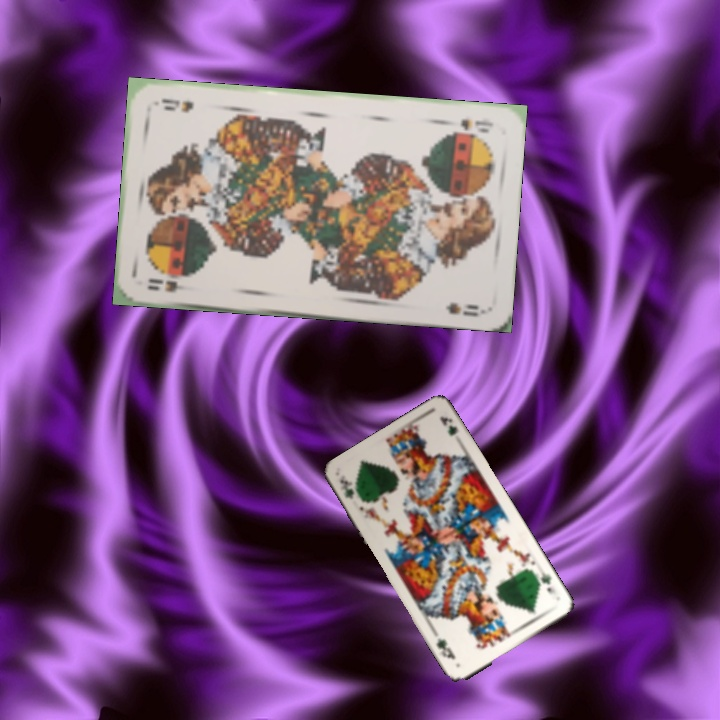GK: (532, 568, 558, 597), (336, 475, 357, 502)
SO: (441, 114, 496, 136), (143, 274, 197, 295)
